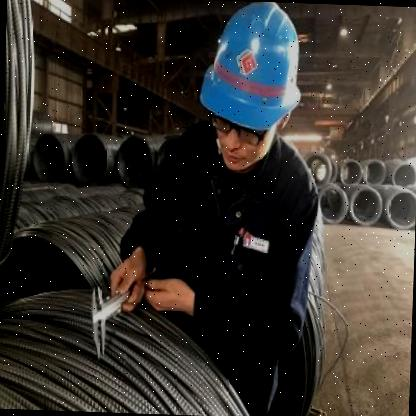capacete: (194, 0, 310, 176)
sem_colete_refletivo: (137, 127, 323, 402)
